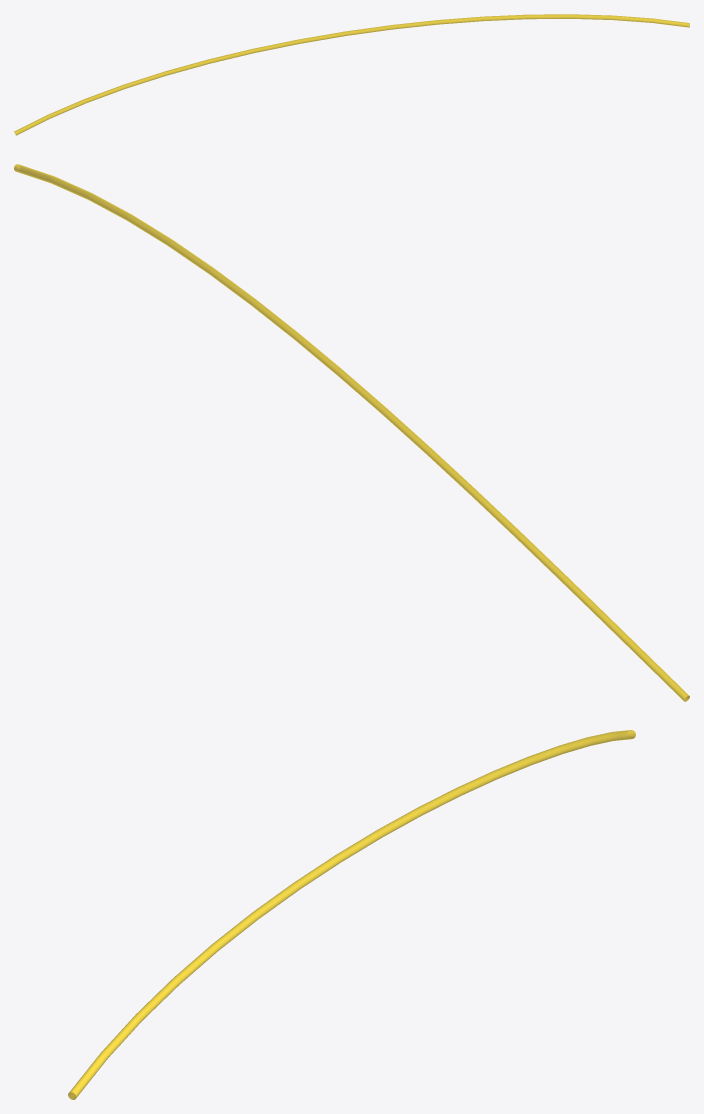
The model's file is Event_17758602_track_4.fbx.
The picture shows the model from 3 angles, top to bottom: view 1: azimuth 30°, elevation 25°; view 2: azimuth 150°, elevation 25°; view 3: azimuth 270°, elevation 25°; orthographic projection. The views are drawn at different scales.
Parts seen in each view (by area): view 1: Model; view 2: Model; view 3: Model.
Part boxes in pixels (left/top/right/bottom): Model: left=14, top=14, right=689, bottom=135; Model: left=14, top=164, right=689, bottom=701; Model: left=68, top=730, right=635, bottom=1099.
Bounding box in the file's own units: 5.36 × 0.9267 × 2.46.
